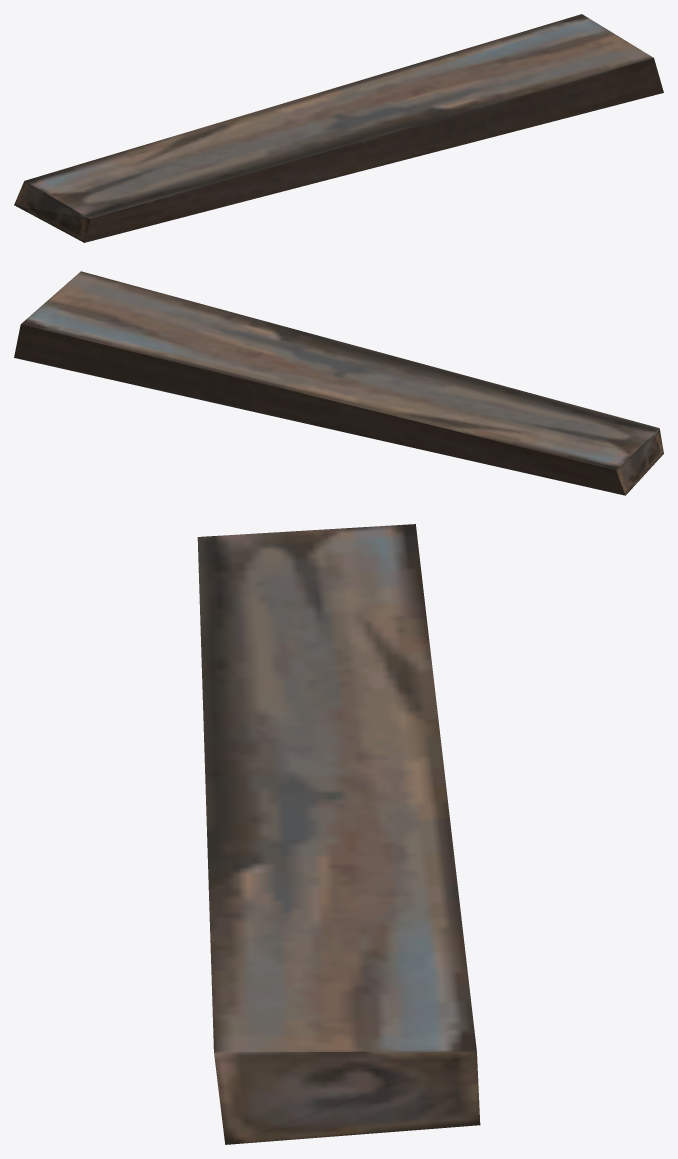
Rendered from mine_board_large_01.fbx.
3 views of the same model, one above another, from view 1: azimuth 30°, elevation 25°; view 2: azimuth 150°, elevation 25°; view 3: azimuth 270°, elevation 25° (orthographic). The views are drawn at different scales.
Parts seen in each view (by area): view 1: obj0.064; view 2: obj0.064; view 3: obj0.064.
Part boxes in pixels (x1,y1,x2,y2): obj0.064: (14,14,663,242); obj0.064: (14,271,663,495); obj0.064: (197,524,480,1144).
Bounding box in the file's own units: 3.47 × 0.2364 × 0.7057.
